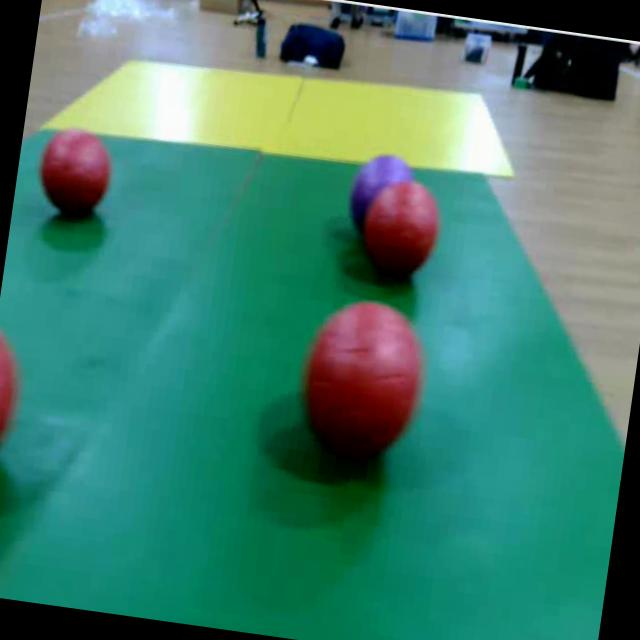purple_ball: (344, 143, 424, 244)
red_ball: (294, 291, 434, 474), (360, 174, 450, 288), (30, 121, 121, 232), (0, 320, 27, 494)
